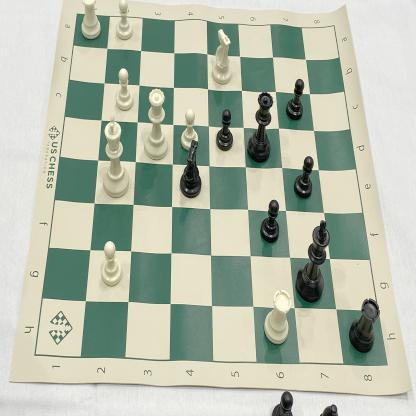king: (296, 219, 332, 305), (99, 113, 131, 199)
knight: (177, 141, 205, 201), (211, 26, 233, 87)
pawn: (97, 239, 123, 289), (292, 154, 316, 200), (113, 66, 136, 112), (260, 196, 282, 244), (214, 106, 236, 154), (178, 107, 200, 151), (285, 76, 305, 122), (114, 0, 134, 41)
queen: (246, 88, 276, 166), (142, 86, 172, 162)
rook: (350, 293, 380, 355), (262, 286, 292, 347), (78, 0, 104, 44)
